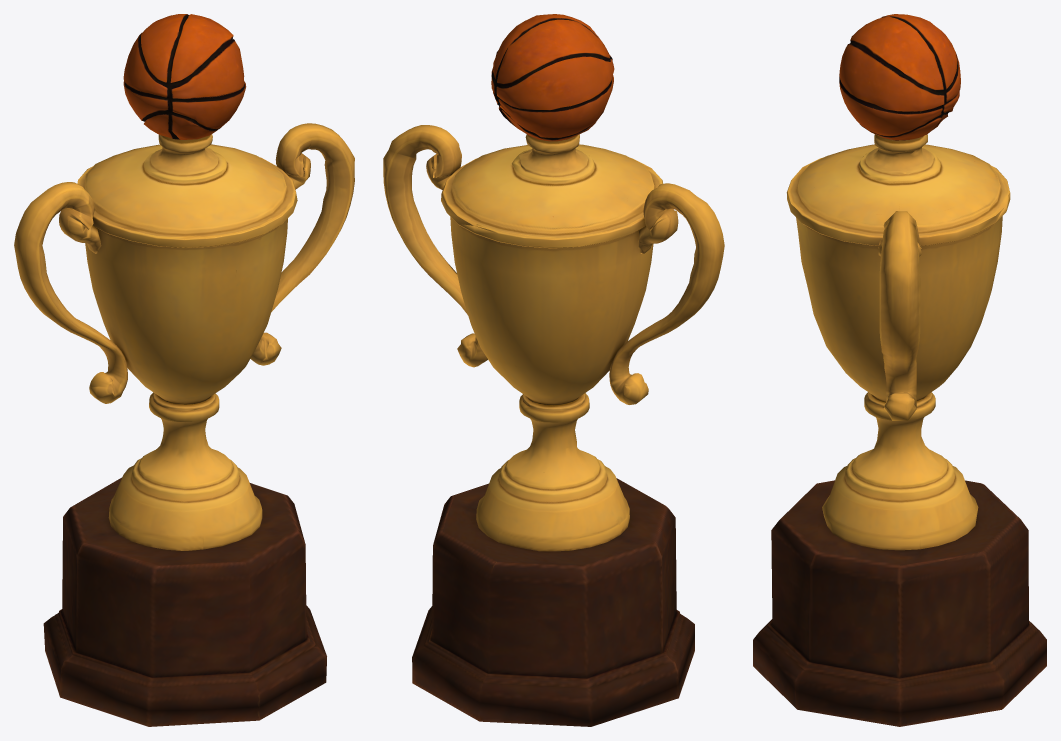
Rendered from trophy.glb.
The picture shows the model from 3 angles, left to right: view 1: azimuth 30°, elevation 25°; view 2: azimuth 150°, elevation 25°; view 3: azimuth 270°, elevation 25°; orthographic projection.
Visible parts, largest first — view 1: geometry_0; view 2: geometry_0; view 3: geometry_0.
Boxes of the visible parts, x1=… form: geometry_0: x1=14, y1=14, x2=354, y2=726; geometry_0: x1=383, y1=14, x2=724, y2=726; geometry_0: x1=753, y1=14, x2=1046, y2=726.
Bounding box in the file's own units: 0.5112 × 0.9507 × 0.3911.
1 material, 1 textured.
